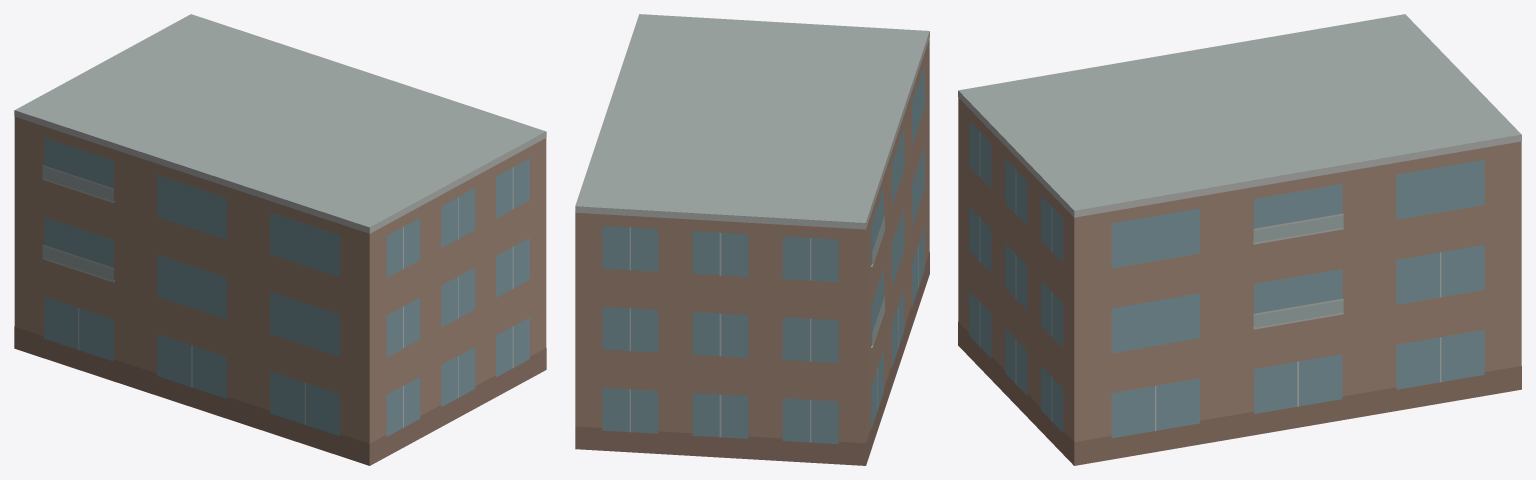
File: survey-upis-32772115.glb
The picture shows the model from 3 angles, left to right: view 1: azimuth 30°, elevation 25°; view 2: azimuth 150°, elevation 25°; view 3: azimuth 270°, elevation 25°; orthographic projection. The views are drawn at different scales.
Visible parts, largest first — view 1: survey-upis-32772115.tmp; view 2: survey-upis-32772115.tmp; view 3: survey-upis-32772115.tmp.
Part boxes in pixels (x1,y1,x2,y2): survey-upis-32772115.tmp: (14, 14, 546, 465); survey-upis-32772115.tmp: (575, 14, 929, 465); survey-upis-32772115.tmp: (958, 14, 1521, 465).
Bounding box in the file's own units: 15.16 × 9.15 × 18.34.
